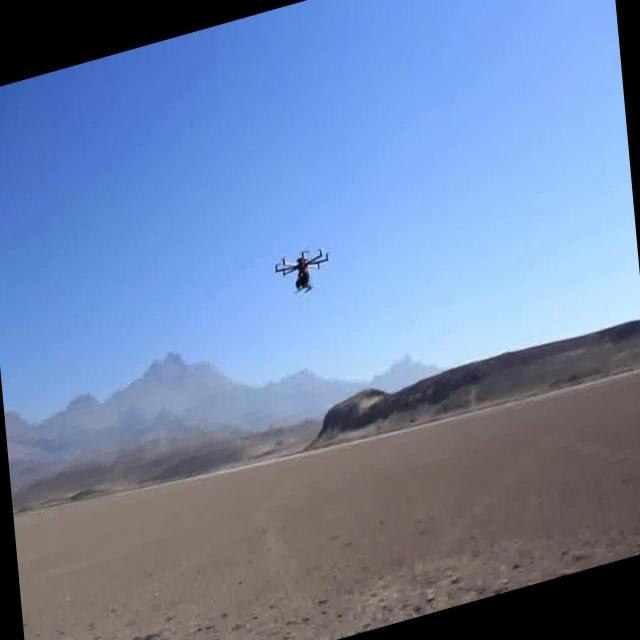drone: (270, 233, 332, 307)
